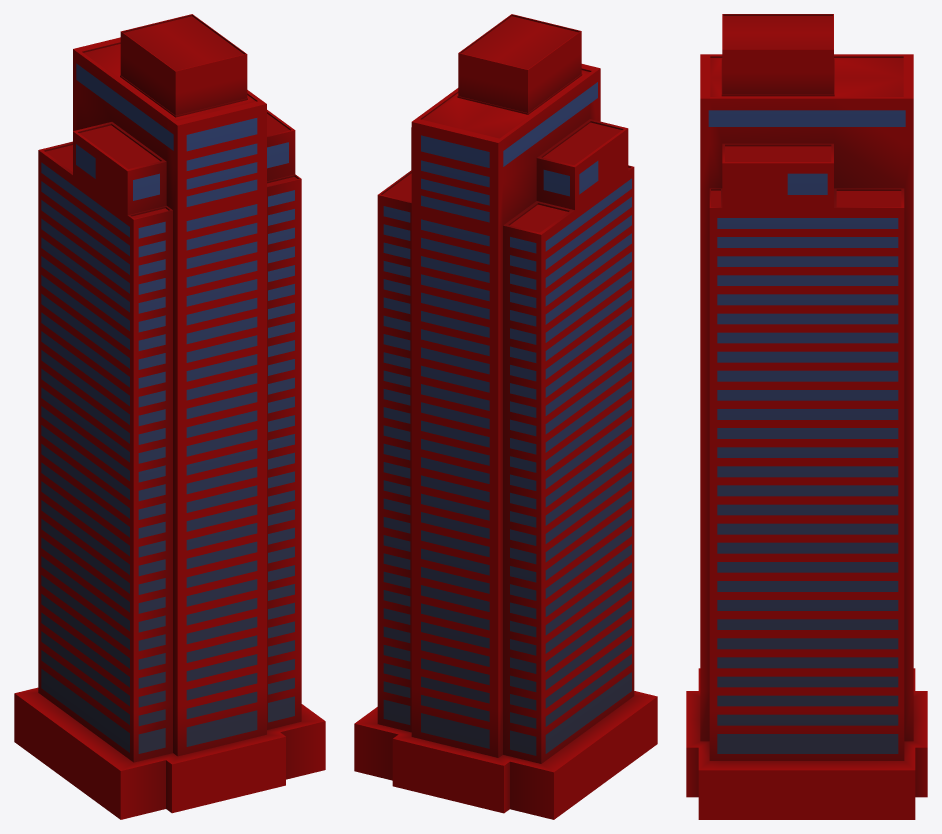
The model's file is RC_ComBuilding10.fbx.
The picture shows the model from 3 angles, left to right: view 1: azimuth 30°, elevation 25°; view 2: azimuth 150°, elevation 25°; view 3: azimuth 270°, elevation 25°; orthographic projection. The views are drawn at different scales.
Visible parts, largest first — view 1: base.046, windowRefl.029; view 2: base.046, windowRefl.029; view 3: base.046, windowRefl.029.
Boxes of the visible parts, x1,y1,x2,y2 form: base.046: (14,14,325,819); windowRefl.029: (41,63,294,753); base.046: (354,14,657,819); windowRefl.029: (383,82,631,755); base.046: (686,14,927,819); windowRefl.029: (708,110,905,753).
Size of the model in its own units: 2098 by 7087 by 2100.
